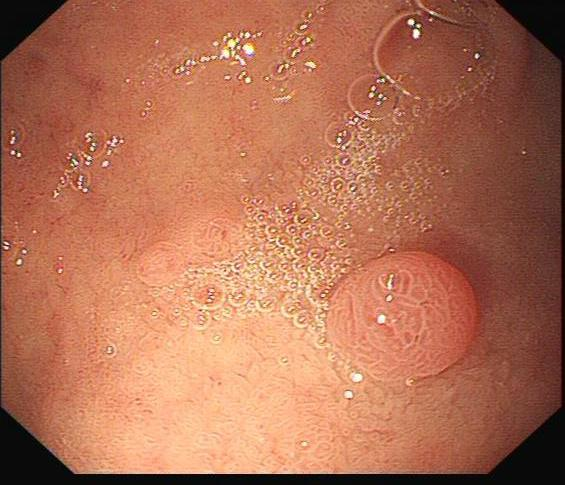Polyp: (320, 247, 477, 384)
